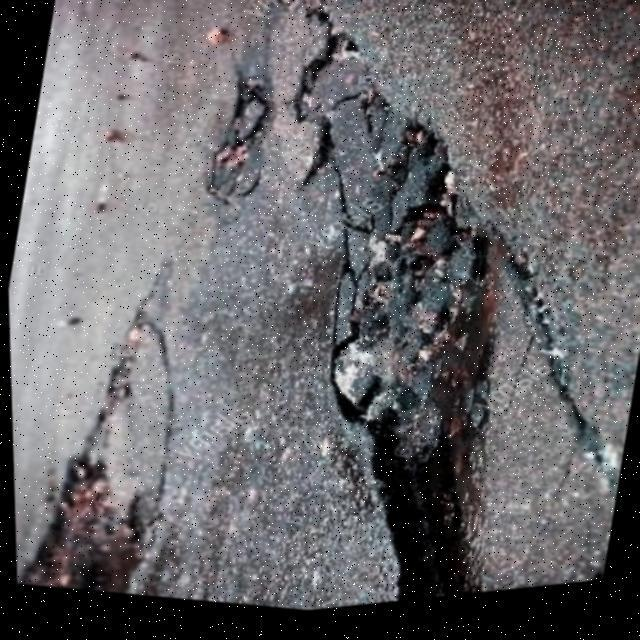pothole: (187, 4, 640, 625), (11, 440, 156, 606)
